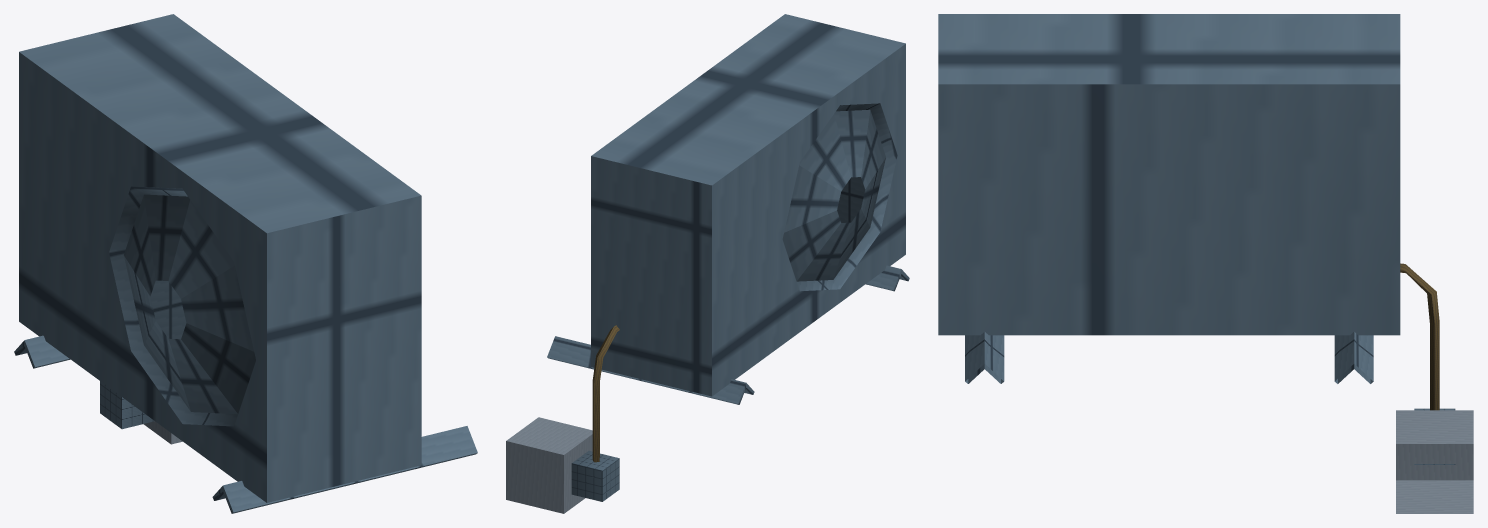
Rendered from aircon.glb.
The picture shows the model from 3 angles, left to right: view 1: azimuth 30°, elevation 25°; view 2: azimuth 150°, elevation 25°; view 3: azimuth 270°, elevation 25°; orthographic projection. The views are drawn at different scales.
Visible parts, largest first — view 1: stk_metalDoor_a.png__, stk_generic_gridA.png__, stk_greyMetal_a.png__, stk_pipe_a.png__, stk_futureBox_a.png__; view 2: stk_metalDoor_a.png__, stk_generic_gridA.png__, stktex_generic_concreteA.png__, stk_greyMetal_a.png__, stk_futureBox_a.png__, stktex_rope_a.png__, stk_pipe_a.png__; view 3: stk_metalDoor_a.png__, stktex_generic_concreteA.png__, stk_greyMetal_a.png__, stktex_rope_a.png__.
Boxes of the visible parts, x1,y1,x2,y2 form: stk_metalDoor_a.png__: [19, 14, 421, 502]; stk_generic_gridA.png__: [124, 194, 255, 414]; stk_greyMetal_a.png__: [14, 186, 477, 513]; stk_pipe_a.png__: [150, 280, 186, 339]; stk_futureBox_a.png__: [100, 381, 154, 429]; stk_metalDoor_a.png__: [591, 14, 905, 396]; stk_generic_gridA.png__: [782, 109, 885, 281]; stktex_generic_concreteA.png__: [506, 417, 592, 513]; stk_greyMetal_a.png__: [547, 103, 909, 404]; stk_futureBox_a.png__: [571, 451, 619, 501]; stktex_rope_a.png__: [592, 325, 619, 462]; stk_pipe_a.png__: [837, 177, 865, 222]; stk_metalDoor_a.png__: [938, 14, 1400, 335]; stktex_generic_concreteA.png__: [1396, 410, 1473, 513]; stk_greyMetal_a.png__: [965, 331, 1373, 383]; stktex_rope_a.png__: [1400, 263, 1439, 410].
Size of the model in its own units: 1.42 by 2.38 by 2.9.
Materials: 7 (7 with a texture image).
